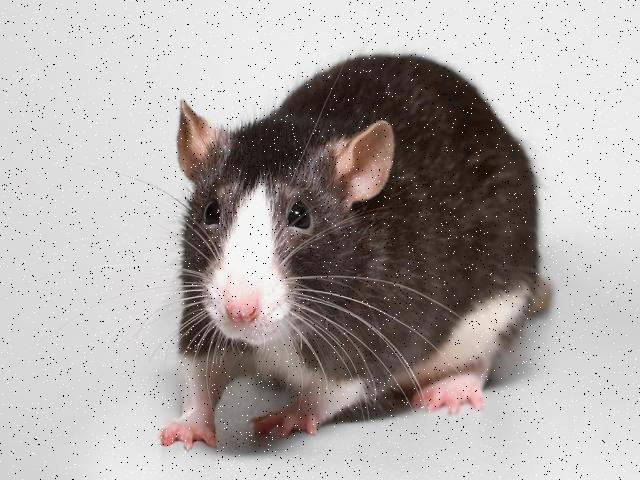Tikus: (156, 51, 556, 452)
